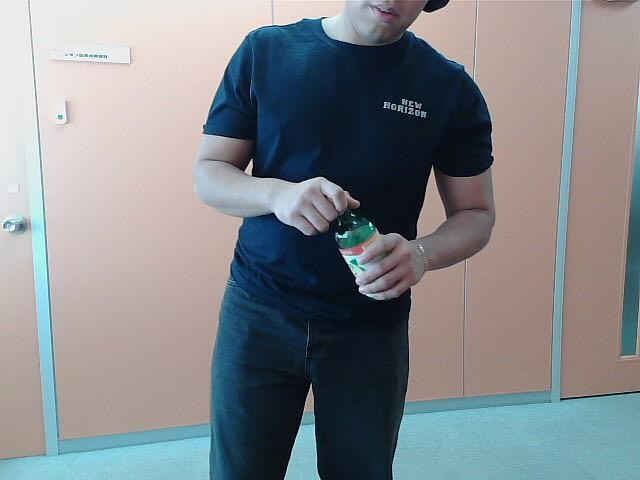Lemon_sapporo: (322, 184, 397, 298)
